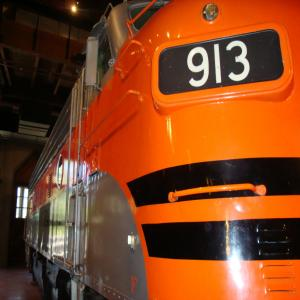Vehicle-registration-plate: (159, 30, 285, 96)
